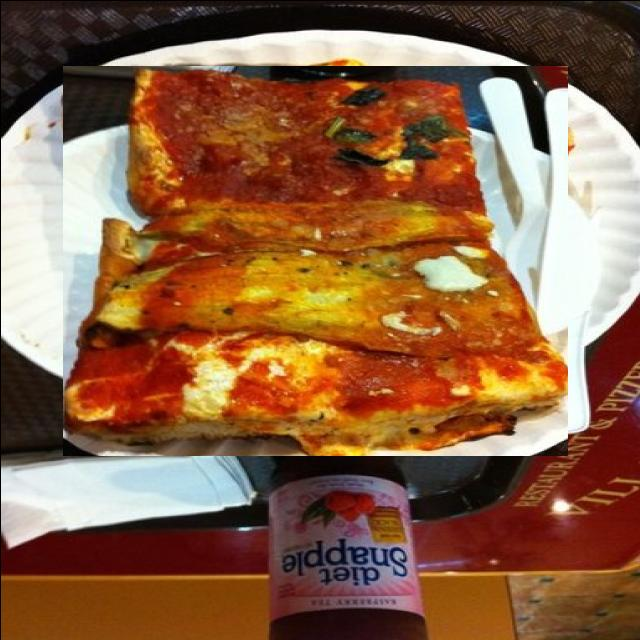basil: (62, 65, 567, 455), (401, 380, 463, 406), (331, 350, 396, 372), (325, 378, 376, 402), (395, 359, 434, 381), (342, 414, 383, 434)
